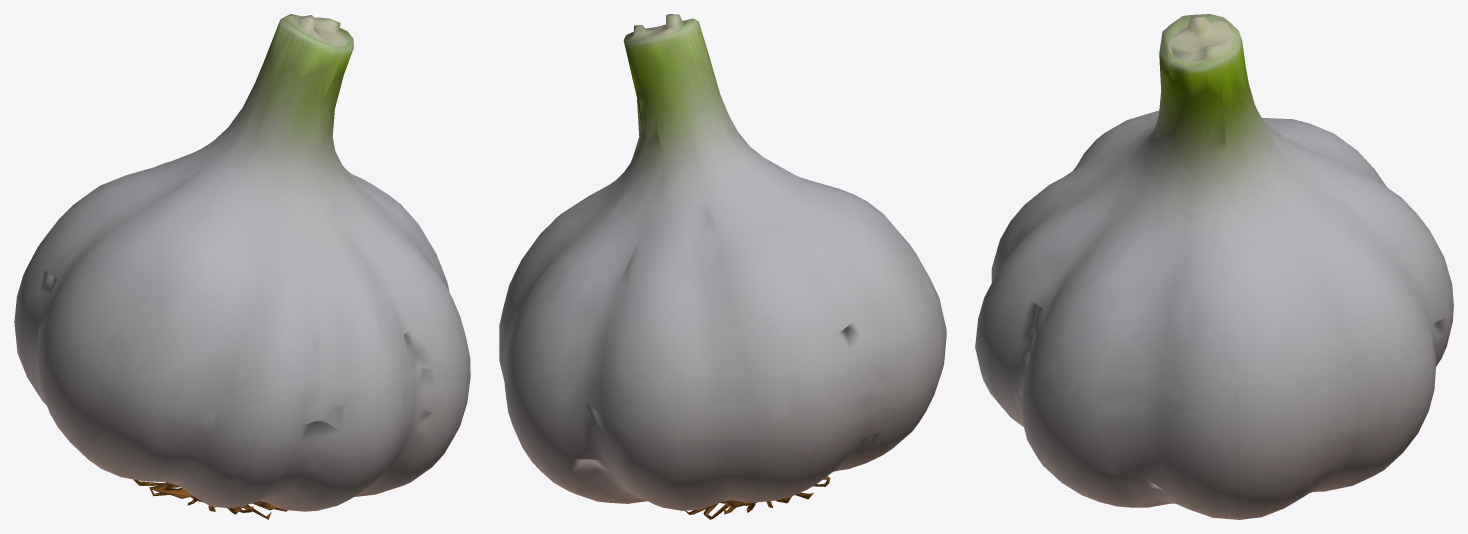
The model's file is garlic-v1.glb.
3 renders of one model, left to right at view 1: azimuth 30°, elevation 25°; view 2: azimuth 150°, elevation 25°; view 3: azimuth 270°, elevation 25°, orthographic. The views are drawn at different scales.
Parts seen in each view (by area): view 1: garlic_surface; view 2: garlic_surface; view 3: garlic_surface.
Boxes of the visible parts, x1,y1,x2,y2 form: garlic_surface: (14,14,470,519); garlic_surface: (499,14,946,519); garlic_surface: (975,14,1453,519).
Bounding box in the file's own units: 0.061 × 0.0678 × 0.0601.
Materials: 1 (1 with a texture image).
